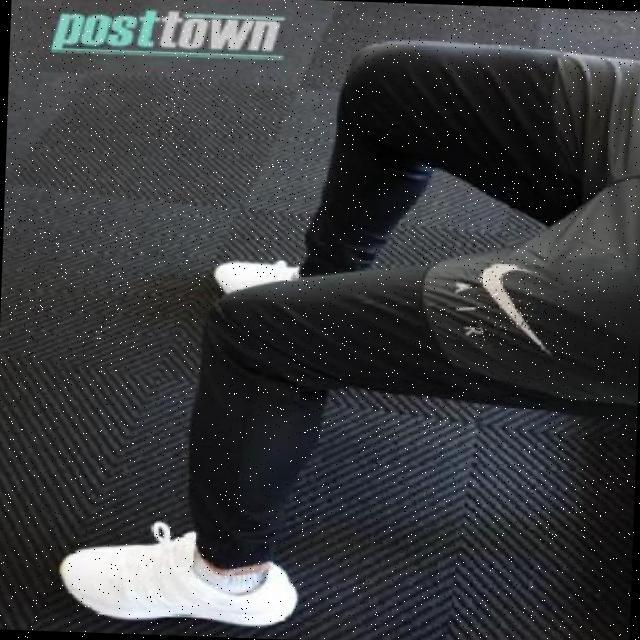Nike: (474, 258, 545, 351)
